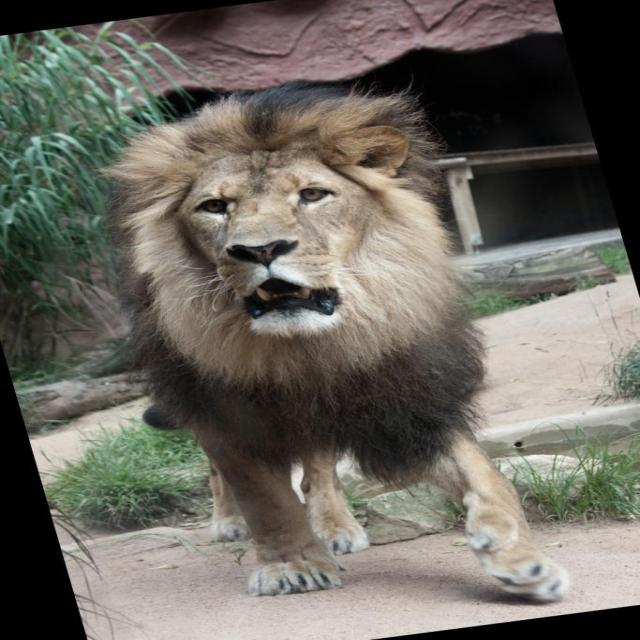Lion: (52, 61, 579, 640)
